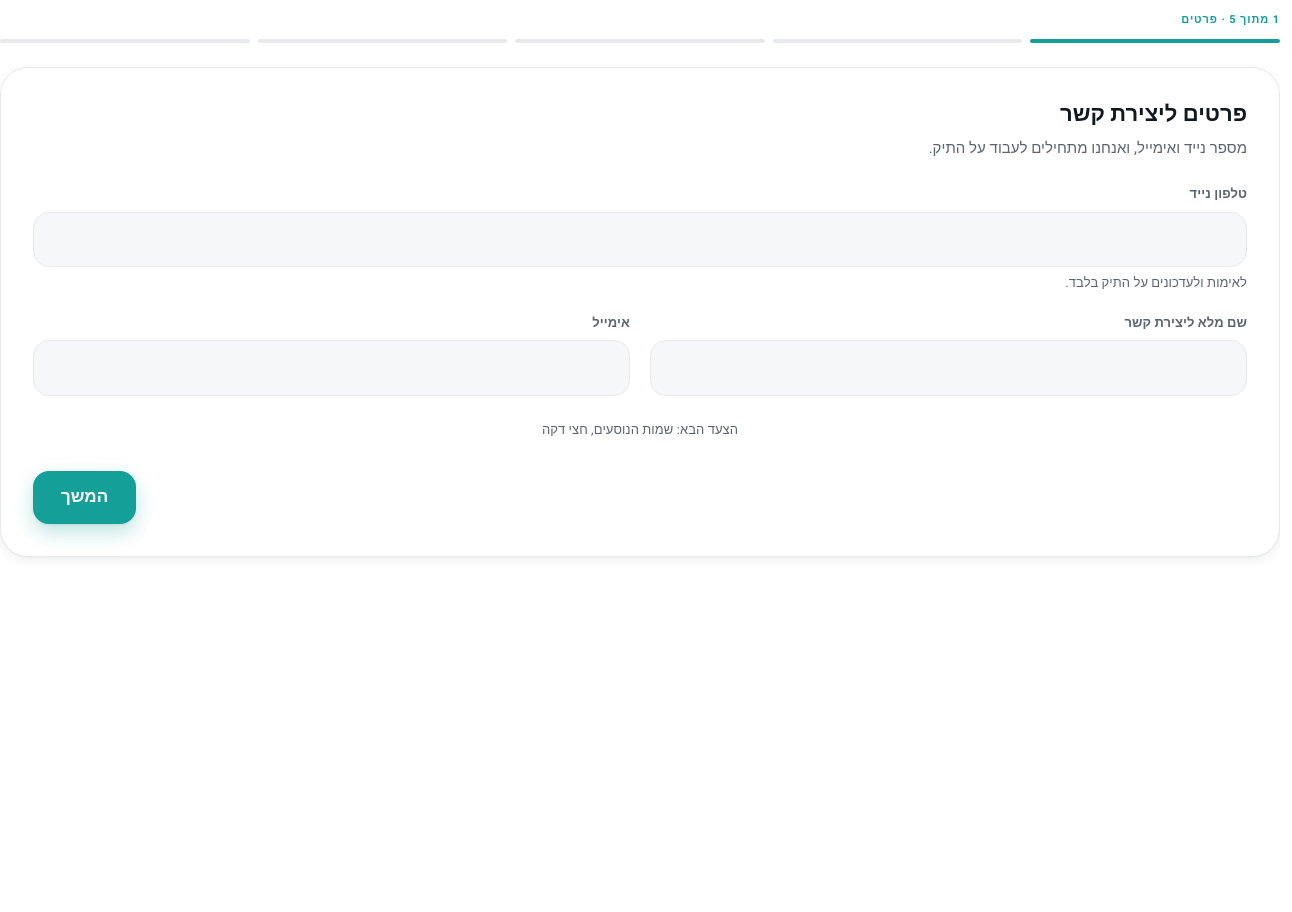
moving through the steps › will not continue without a way to reach somebody
The image size is (1292, 912).
Click the button "המשך" at {"x": 85, "y": 498}, box x1=33 y1=471 x2=136 y2=524
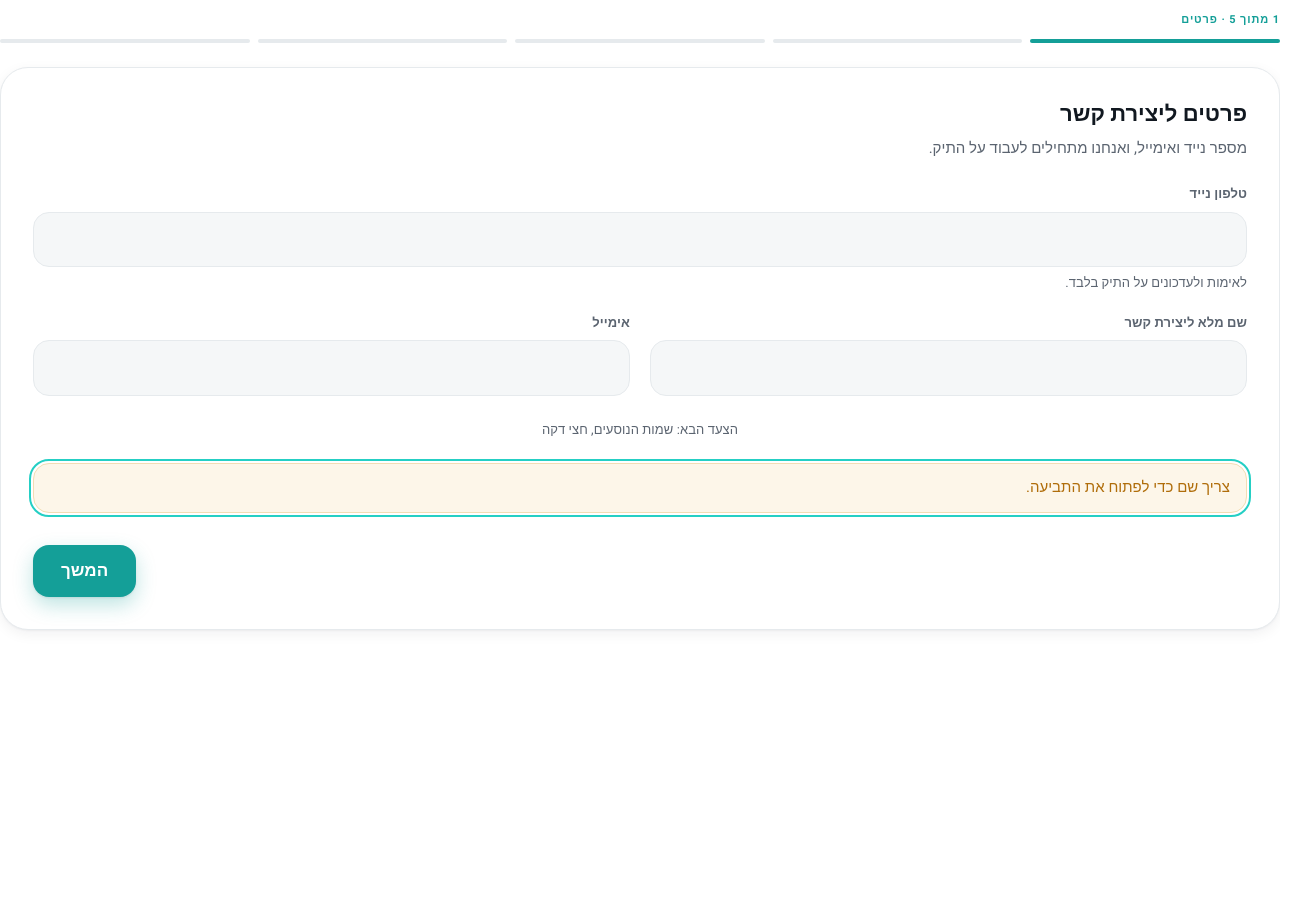
expect the heading "פרטים ליצירת קשר" is shown: met, box x1=1060 y1=98 x2=1247 y2=130
expect the text "צריך שם כדי לפתוח את התביעה." is shown: met, box x1=33 y1=463 x2=1247 y2=513
